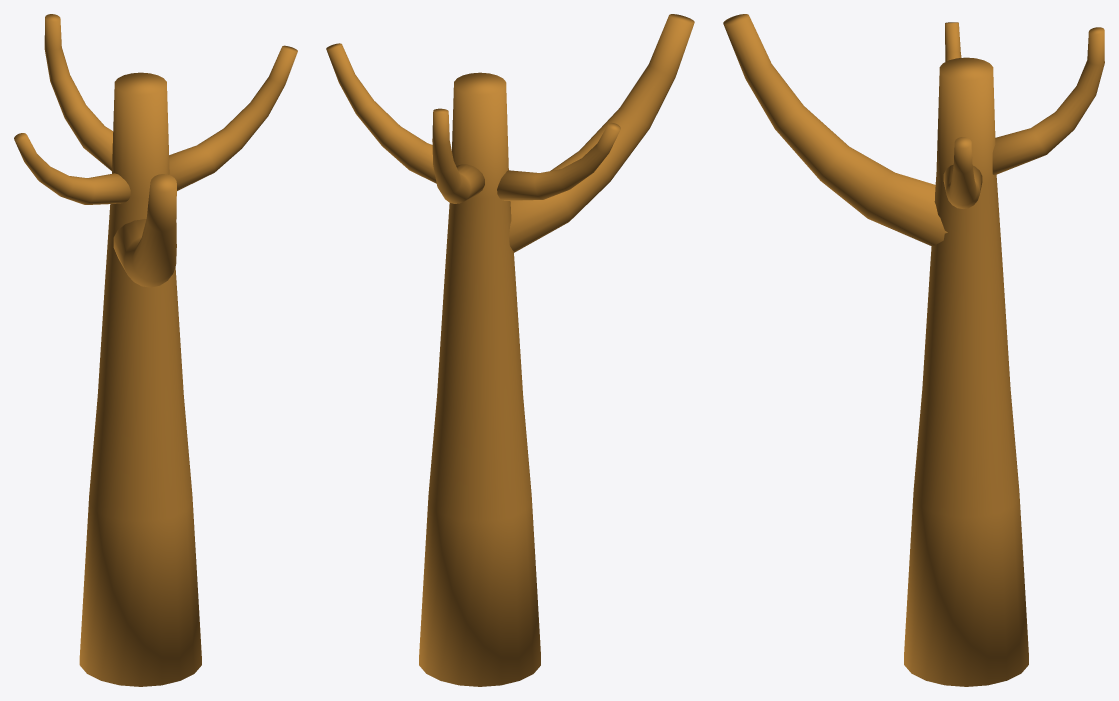
The model's file is tree.glb.
3 renders of one model, left to right at view 1: azimuth 30°, elevation 25°; view 2: azimuth 150°, elevation 25°; view 3: azimuth 270°, elevation 25°, orthographic. The views are drawn at different scales.
Visible parts, largest first — view 1: Object_3; view 2: Object_3; view 3: Object_3.
Part boxes in pixels (box(x1,y1,x2,y2)): Object_3: box(14, 14, 297, 686); Object_3: box(326, 14, 694, 686); Object_3: box(723, 14, 1104, 686).
Size of the model in its own units: 1.8 by 3.61 by 2.02.
